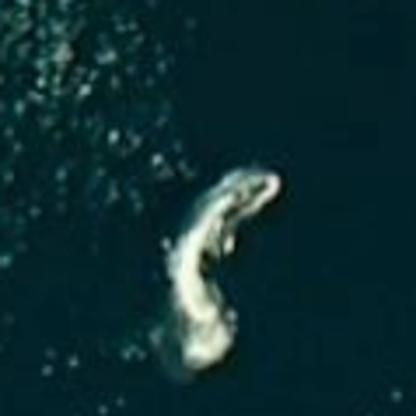ship: (218, 158, 295, 229)
